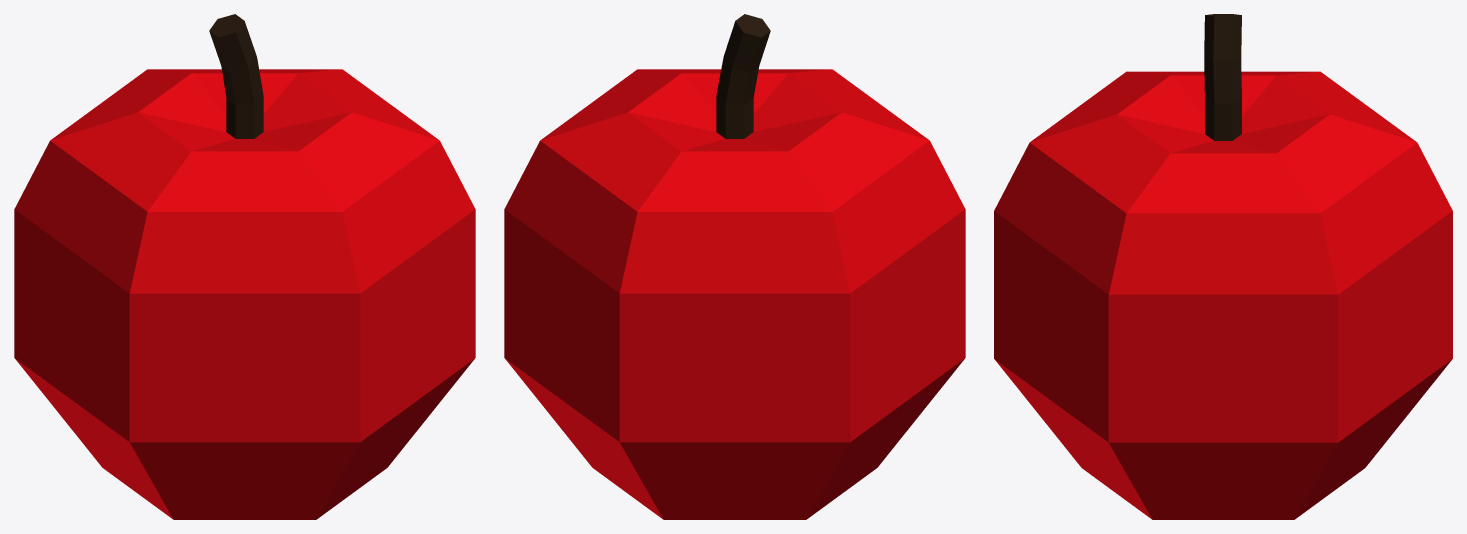
Rendered from Apple.fbx.
The picture shows the model from 3 angles, left to right: view 1: azimuth 30°, elevation 25°; view 2: azimuth 150°, elevation 25°; view 3: azimuth 270°, elevation 25°; orthographic projection.
Visible parts, largest first — view 1: Sphere; view 2: Sphere; view 3: Sphere.
Boxes of the visible parts, <box> form: Sphere: <box>14,14,475,519</box>; Sphere: <box>504,14,965,519</box>; Sphere: <box>994,14,1452,519</box>.
Size of the model in its own units: 16.47 by 20.56 by 19.02.
